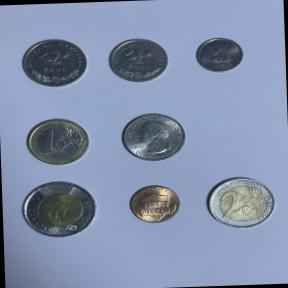1 Euro: (22, 115, 95, 170)
2 Euro: (199, 172, 280, 231)
Canda-10cent-: (190, 33, 248, 77)
Canda-2Dollar-: (16, 178, 102, 242)
Croatia-2Kune-: (18, 34, 91, 90)
US-1cent-: (125, 181, 184, 225)
US-25cent-: (115, 109, 190, 164)
